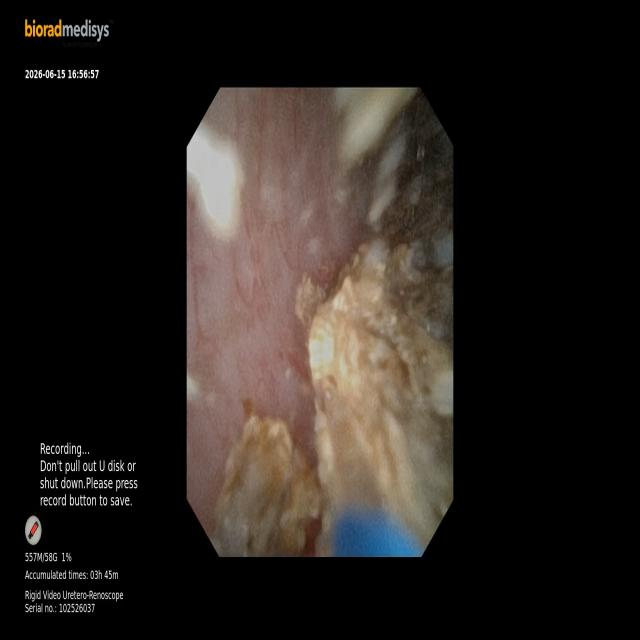laser-fibre: (323, 390, 385, 509)
stone-new: (309, 241, 452, 550), (212, 401, 320, 555)
